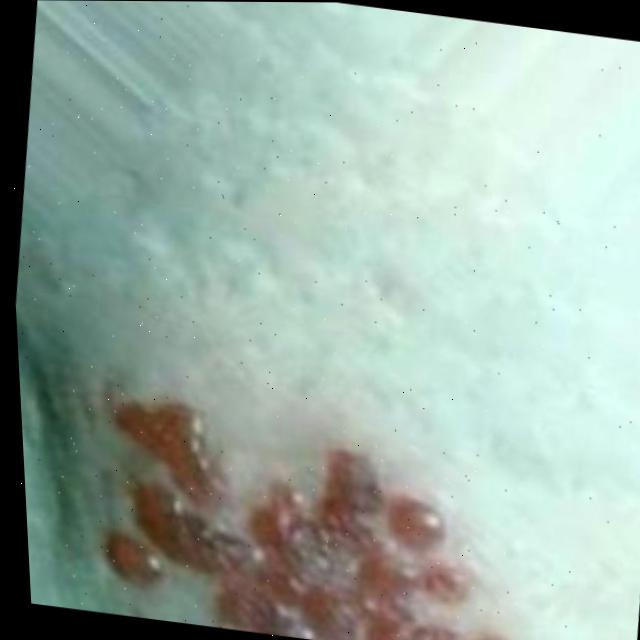Shingles: (71, 377, 555, 640)
